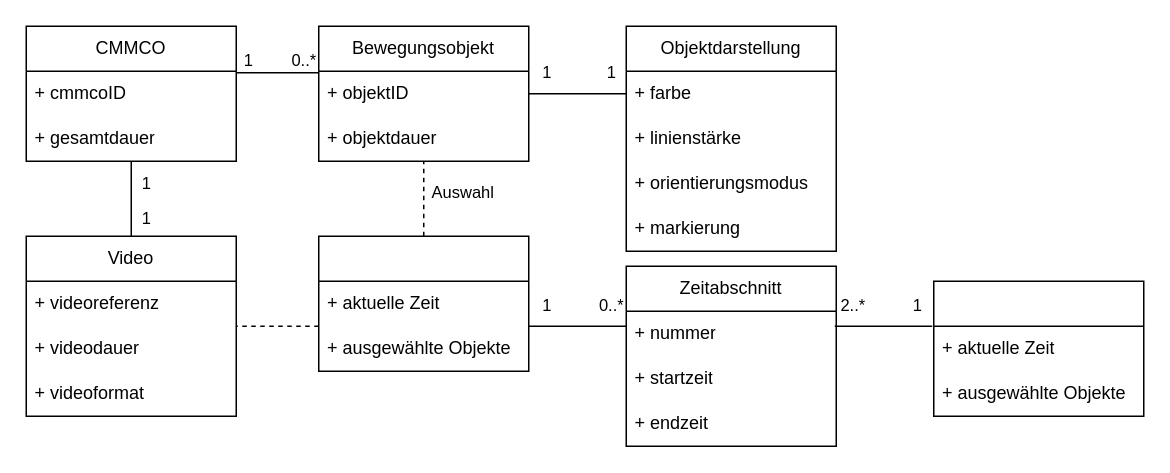
The diagram is 1170 pixels wide and 473 high, and some of its shapes have lost their labels. Each missing label, with the box of its shape:
Analyseansicht: (317, 235, 529, 371)
Vergleichsansicht: (932, 280, 1144, 416)
